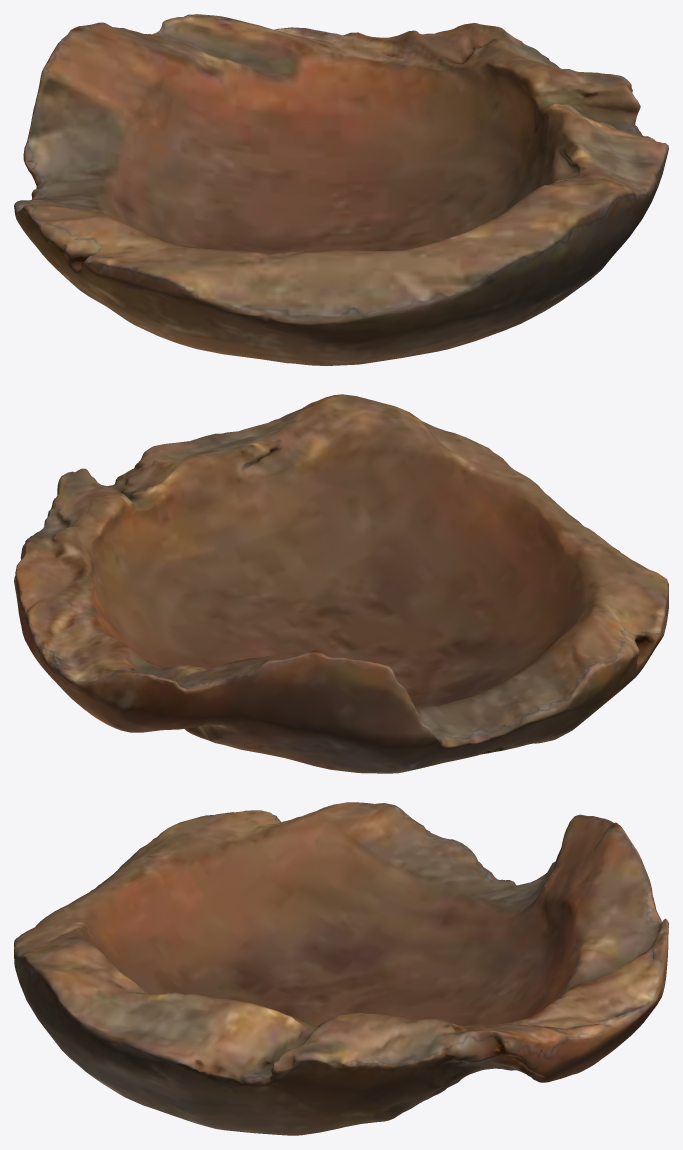
Rendered from bowl.glb.
The picture shows the model from 3 angles, top to bottom: view 1: azimuth 30°, elevation 25°; view 2: azimuth 150°, elevation 25°; view 3: azimuth 270°, elevation 25°; orthographic projection. The views are drawn at different scales.
Visible parts, largest first — view 1: wooden_bowl_01; view 2: wooden_bowl_01; view 3: wooden_bowl_01.
Part boxes in pixels (x1,y1,x2,y2): wooden_bowl_01: (14,14,668,365); wooden_bowl_01: (14,394,668,773); wooden_bowl_01: (14,802,668,1135).
Size of the model in its own units: 0.3131 by 0.0937 by 0.3091.
1 material, 1 textured.
